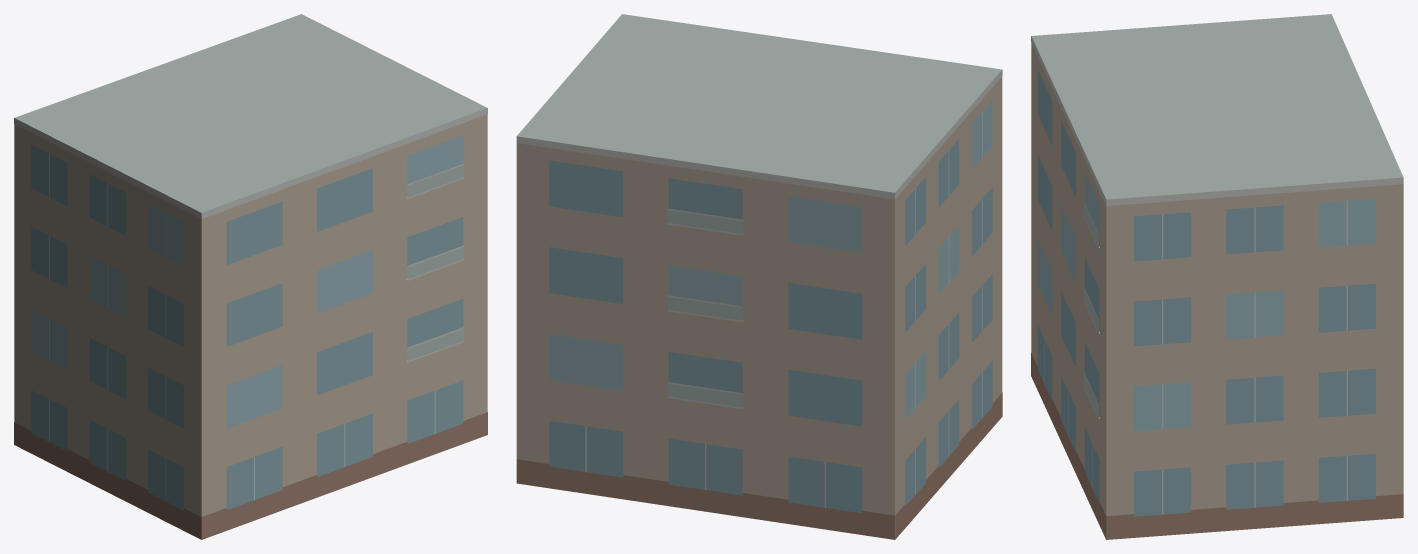
The model's file is survey-upis-32908887.glb.
3 renders of one model, left to right at view 1: azimuth 30°, elevation 25°; view 2: azimuth 150°, elevation 25°; view 3: azimuth 270°, elevation 25°, orthographic. The views are drawn at different scales.
Visible parts, largest first — view 1: survey-upis-32908887.tmp; view 2: survey-upis-32908887.tmp; view 3: survey-upis-32908887.tmp.
Boxes of the visible parts, x1=… form: survey-upis-32908887.tmp: x1=14, y1=14, x2=487, y2=539; survey-upis-32908887.tmp: x1=516, y1=14, x2=1002, y2=539; survey-upis-32908887.tmp: x1=1031, y1=14, x2=1403, y2=539.
Size of the model in its own units: 14.86 by 12.7 by 12.61.
